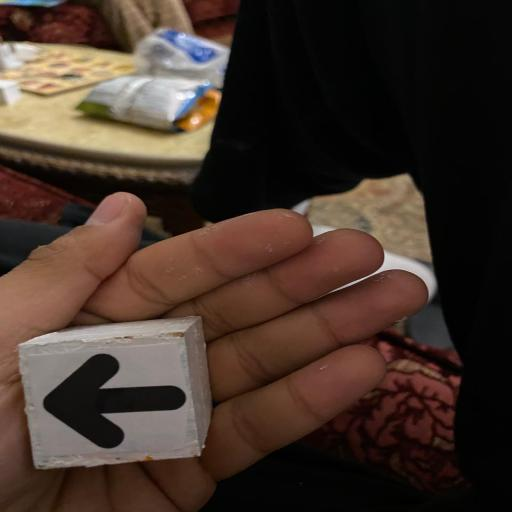Back: (18, 318, 220, 472)
